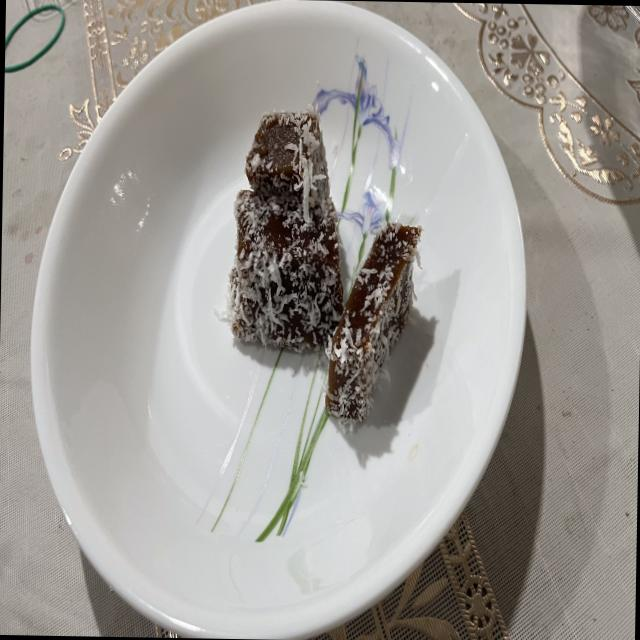kaswi: (225, 190, 344, 355), (326, 223, 422, 421), (244, 110, 339, 226)
